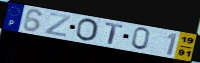0: (130, 27, 152, 52)
1: (166, 33, 178, 56)
6: (22, 9, 46, 33)
O: (74, 18, 100, 42)
T: (105, 22, 124, 46)
Z: (44, 12, 72, 38)
